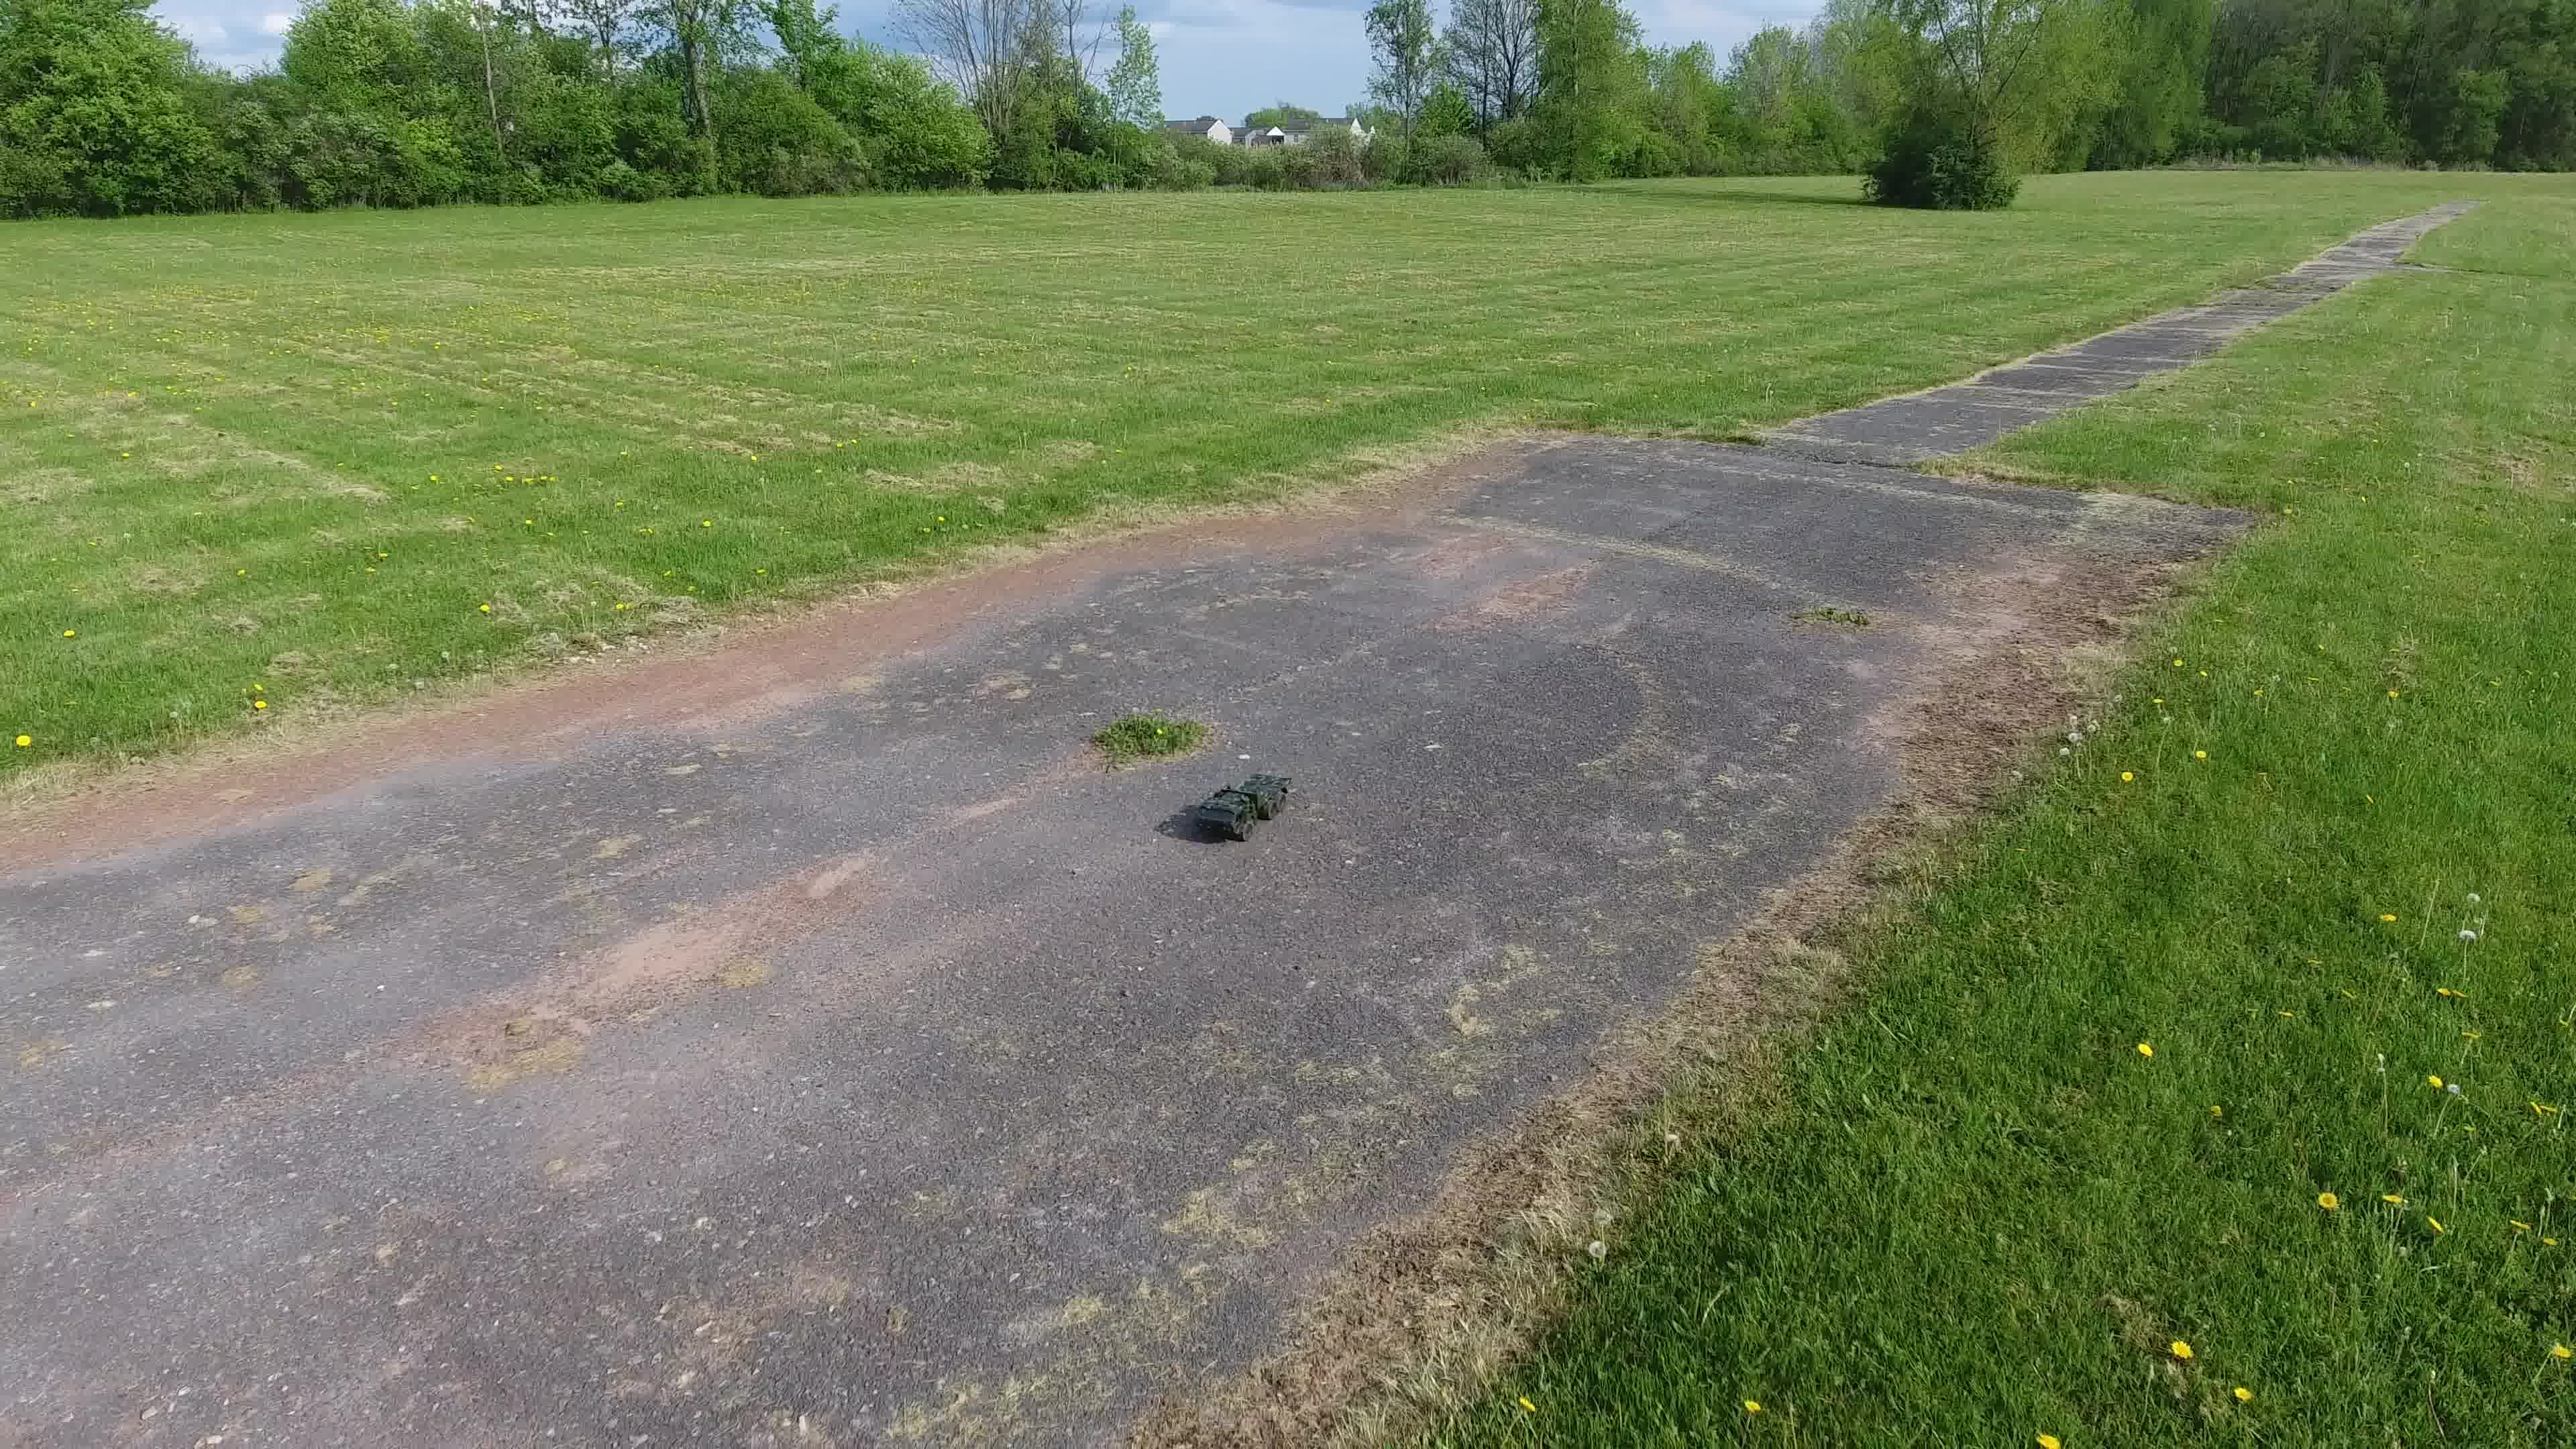transporter9_camo: (1191, 770, 1293, 846)
